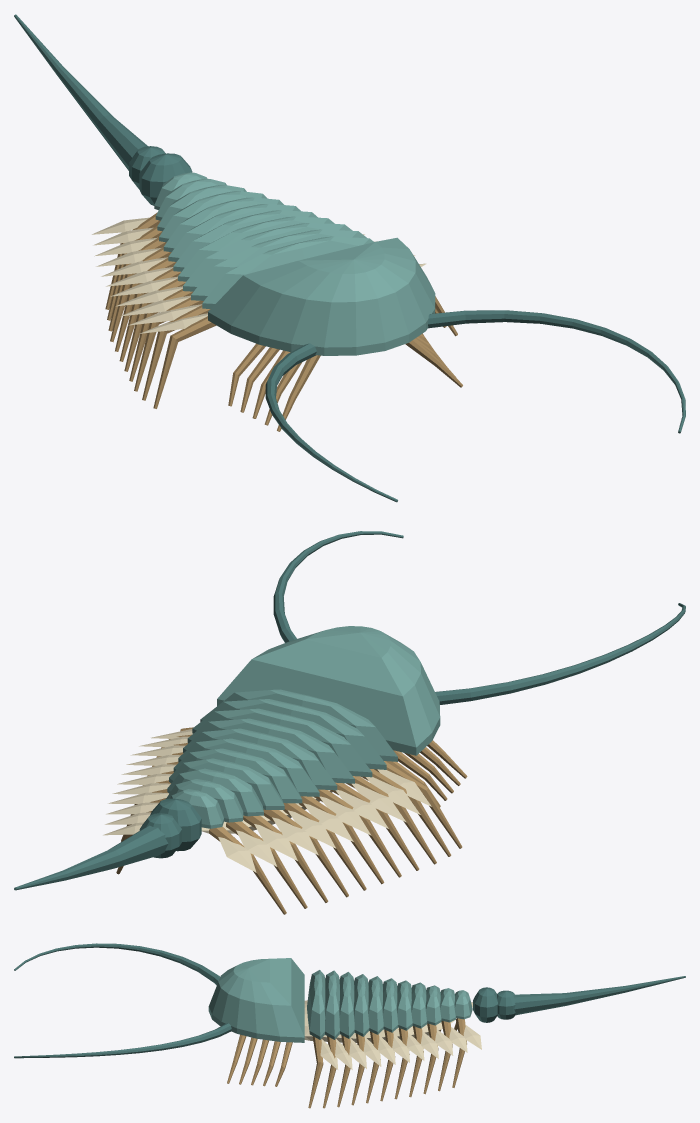
Rendered from emeraldella.glb.
3 renders of one model, top to bottom at view 1: azimuth 30°, elevation 25°; view 2: azimuth 150°, elevation 25°; view 3: azimuth 270°, elevation 25°, orthographic. The views are drawn at different scales.
Parts seen in each view (by area): view 1: smooth-eyeless-head, right-antenna, continuous-tail-spine, trunk-plate-01, trunk-plate-02, left-antenna, trunk-plate-03, trunk-plate-04, trunk-plate-05, posterior-ring-1, trunk-plate-06, trunk-plate-07 (+5 smaller); view 2: smooth-eyeless-head, left-antenna, continuous-tail-spine, trunk-plate-03, trunk-plate-02, trunk-plate-04, trunk-plate-01, trunk-plate-05, trunk-plate-06, trunk-plate-07, trunk-plate-08, right-antenna (+26 smaller); view 3: smooth-eyeless-head, continuous-tail-spine, right-antenna, left-antenna, trunk-plate-01, trunk-plate-02, trunk-plate-03, trunk-plate-04, trunk-plate-05, trunk-plate-06, posterior-ring-1, trunk-plate-07 (+23 smaller).
Boxes of the visible parts, <box> form: smooth-eyeless-head: <box>208,237,435,355</box>; right-antenna: <box>428,310,685,433</box>; continuous-tail-spine: <box>14,14,147,170</box>; trunk-plate-01: <box>202,236,373,308</box>; trunk-plate-02: <box>191,229,367,300</box>; left-antenna: <box>265,343,397,502</box>; trunk-plate-03: <box>183,223,352,291</box>; trunk-plate-04: <box>178,216,334,281</box>; trunk-plate-05: <box>173,210,317,271</box>; posterior-ring-1: <box>139,153,192,205</box>; trunk-plate-06: <box>168,204,300,261</box>; trunk-plate-07: <box>163,197,283,251</box>; smooth-eyeless-head: <box>217,626,440,755</box>; left-antenna: <box>435,603,685,704</box>; continuous-tail-spine: <box>14,825,168,890</box>; trunk-plate-03: <box>192,708,372,777</box>; trunk-plate-02: <box>200,699,386,769</box>; trunk-plate-04: <box>187,718,354,783</box>; trunk-plate-01: <box>223,689,397,761</box>; trunk-plate-05: <box>183,728,337,790</box>; trunk-plate-06: <box>178,738,319,796</box>; trunk-plate-07: <box>173,748,302,803</box>; trunk-plate-08: <box>169,758,284,809</box>; right-antenna: <box>273,531,403,642</box>; smooth-eyeless-head: <box>208,958,304,1042</box>; continuous-tail-spine: <box>514,976,685,1015</box>; right-antenna: <box>14,1023,231,1058</box>; left-antenna: <box>14,943,219,985</box>; trunk-plate-01: <box>307,970,325,1039</box>; trunk-plate-02: <box>325,970,339,1039</box>; trunk-plate-03: <box>339,972,354,1038</box>; trunk-plate-04: <box>354,974,369,1036</box>; trunk-plate-05: <box>368,976,383,1034</box>; trunk-plate-06: <box>383,978,398,1032</box>; posterior-ring-1: <box>473,987,497,1022</box>; trunk-plate-07: <box>397,980,412,1030</box>.
Bounding box in the file's own units: 0.0546 × 0.0216 × 0.1402.
